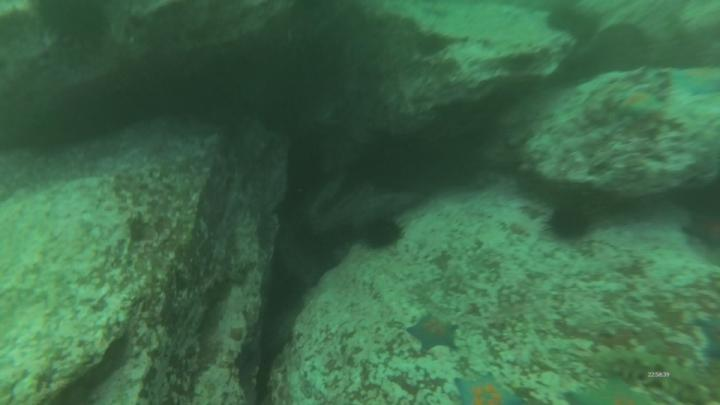echinus: (550, 209, 586, 240), (363, 222, 400, 248)
holothurian: (598, 349, 715, 403)
starfish: (569, 380, 645, 405), (455, 376, 515, 405), (409, 317, 455, 351), (677, 66, 720, 99), (623, 92, 656, 118)
